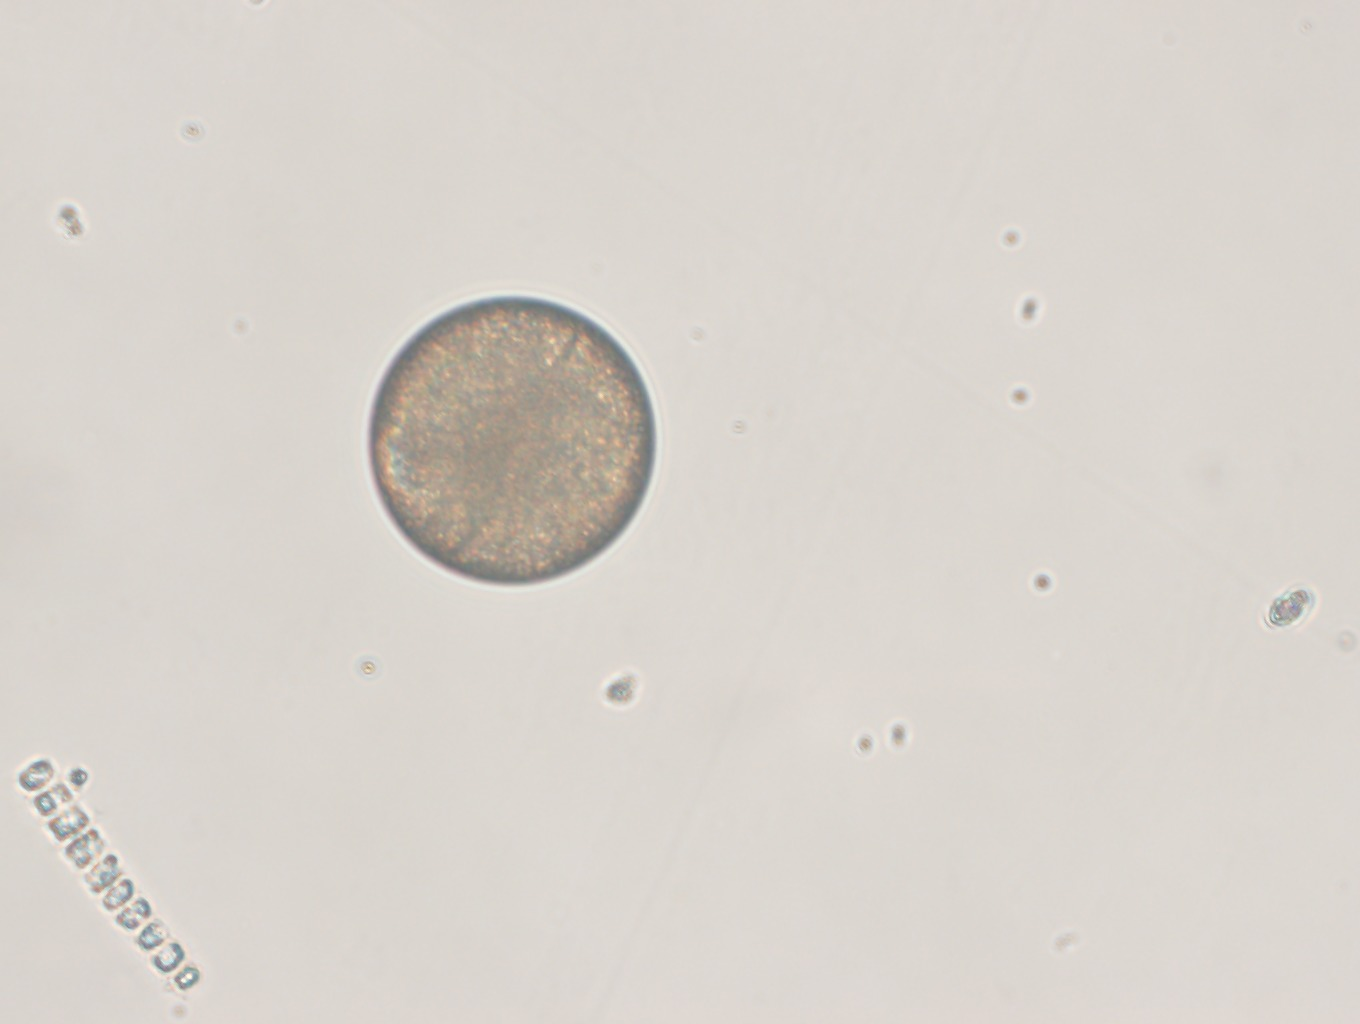coscinodiscus: (362, 287, 669, 592)
detonula pumila: (16, 741, 210, 1007)
